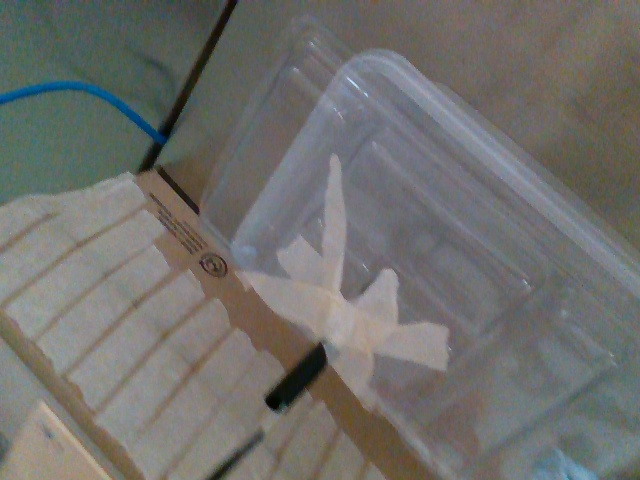test_strip: (204, 406, 282, 478)
